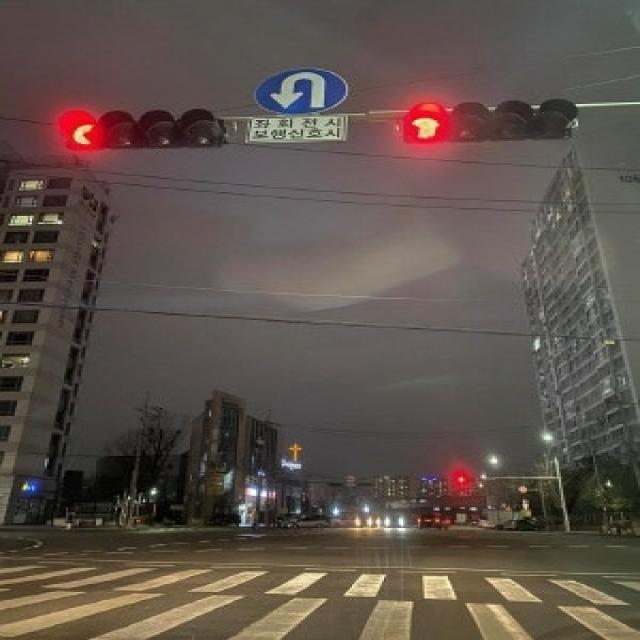red_light: (398, 98, 582, 142), (55, 106, 229, 148)
